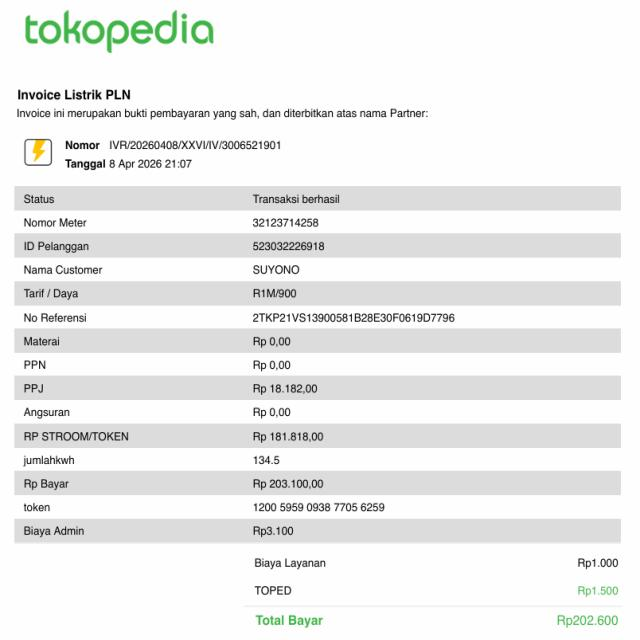date: (106, 157, 196, 176)
store: (19, 10, 222, 51), (12, 87, 136, 104)
total: (255, 610, 634, 637)
